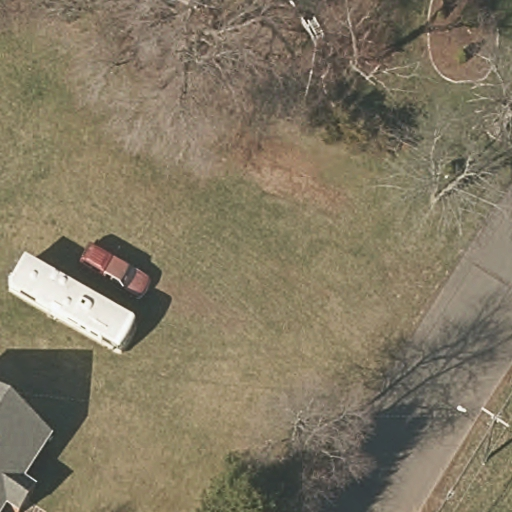DT: (456, 399, 512, 469)
